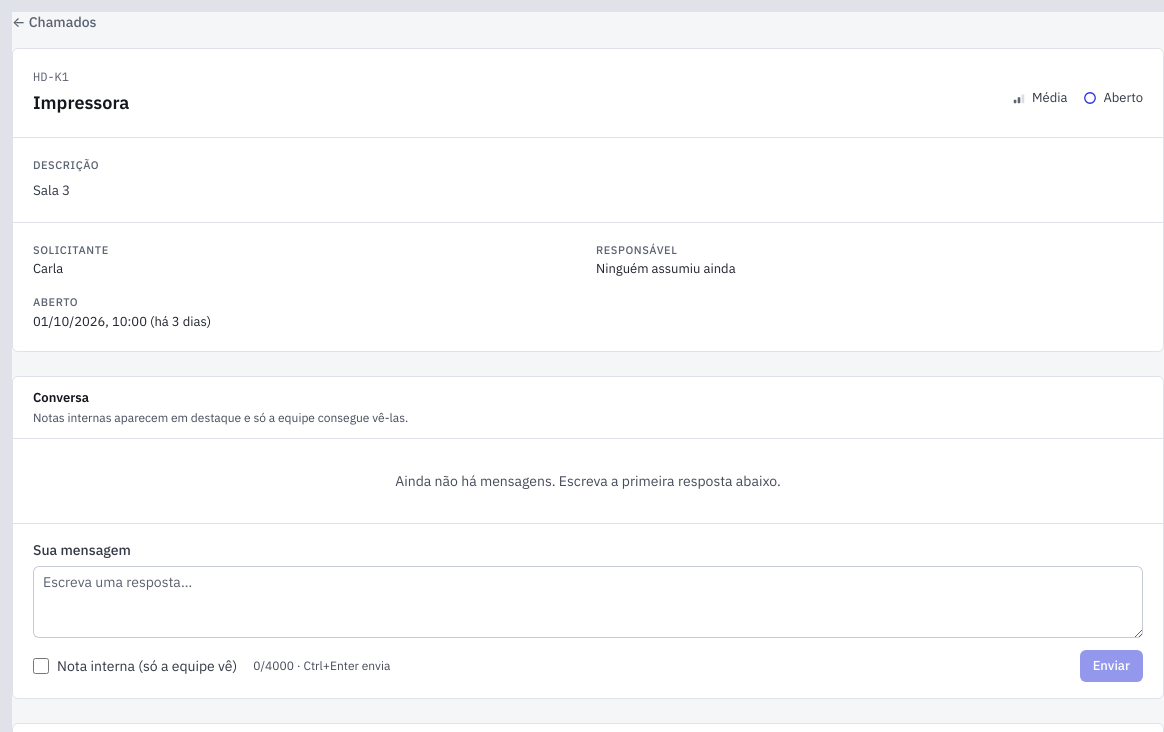
Test: Compositor › a equipe envia nota interna com isInternal verdadeiro
Click the checkbox labelled "Nota interna (só a equipe vê)" at (41, 666), box [33, 658, 49, 674]
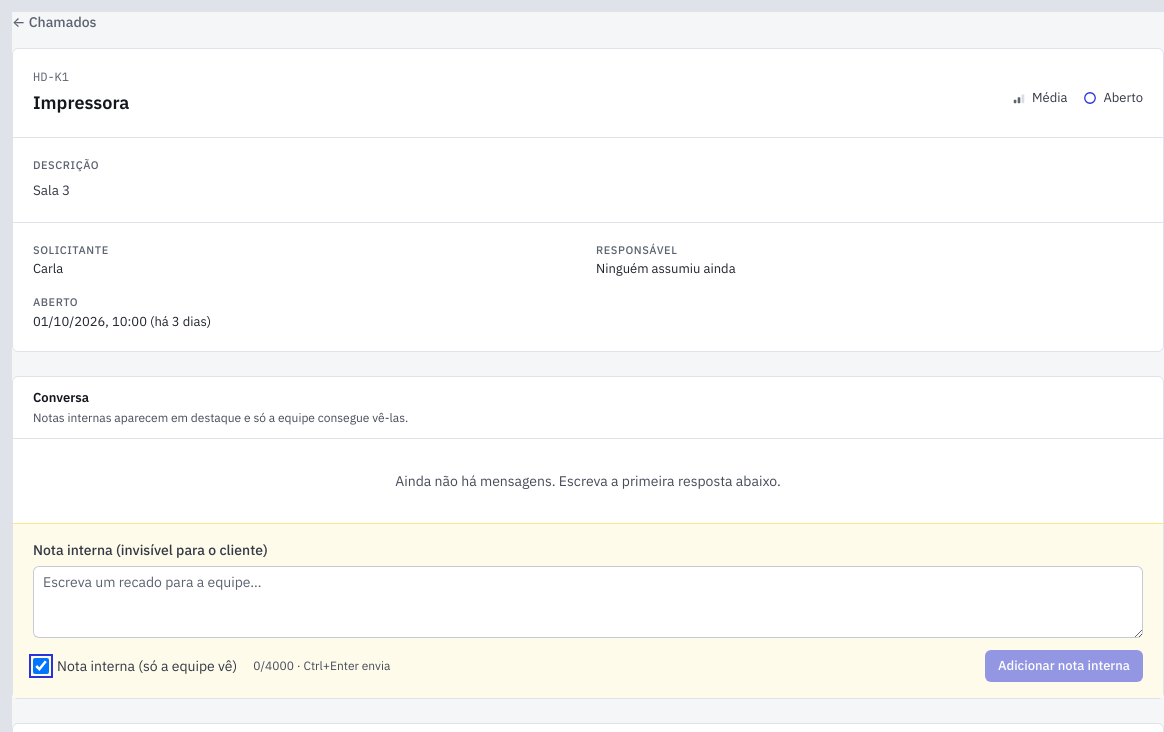
Type "Cuidado com esse cliente" into the text box labelled "Nota interna (invisível para o cliente)" at (588, 602), box [33, 566, 1143, 638]
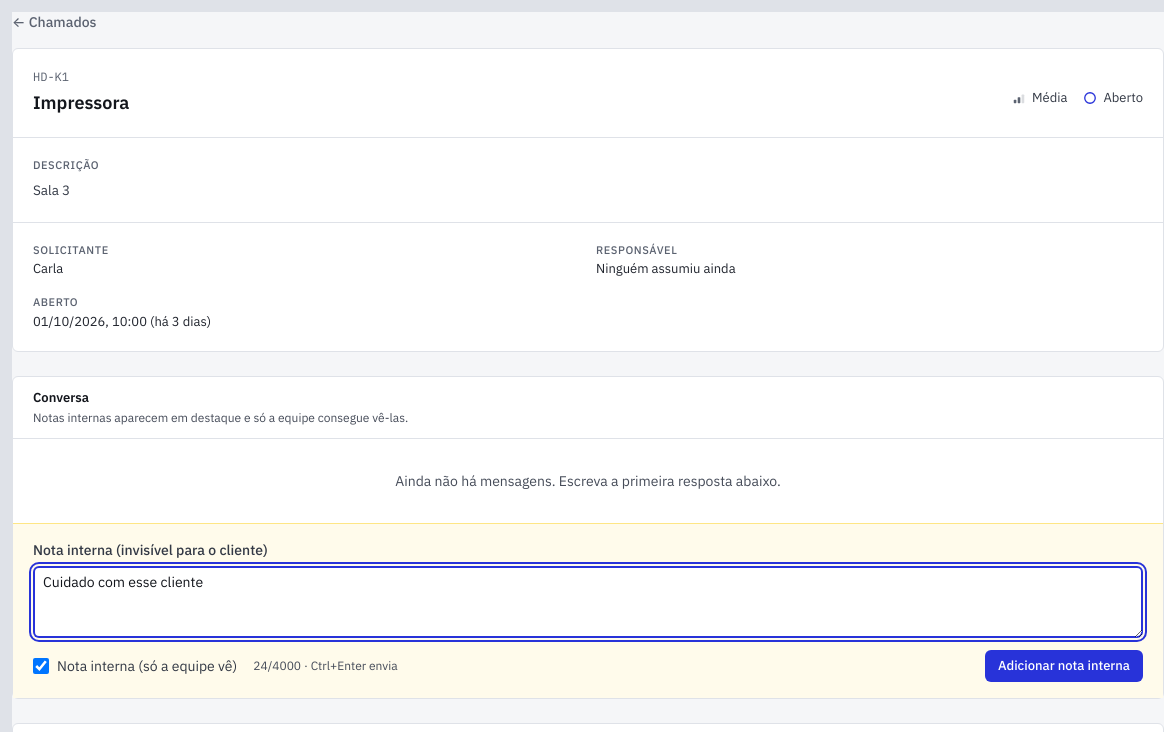
Click the button "Adicionar nota interna" at (1064, 666), box [985, 650, 1143, 682]
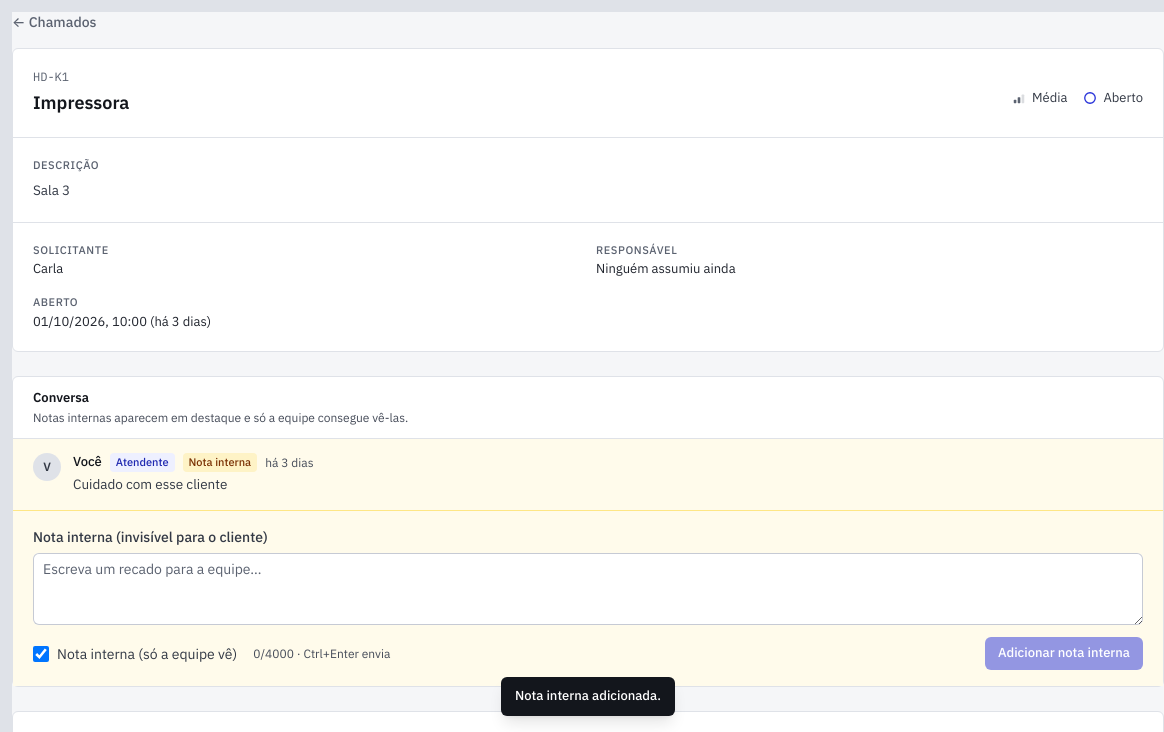
Expected: the text "Nota interna adicionada." is shown, [501, 677, 675, 716]
